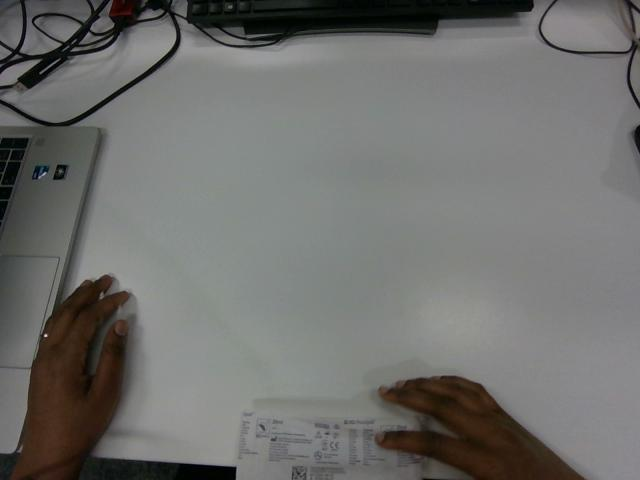syringe: (236, 411, 422, 479)
